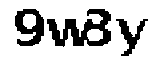3: (91, 6, 116, 51)
9: (12, 6, 47, 50)
w: (46, 18, 91, 54)
y: (118, 15, 153, 60)
